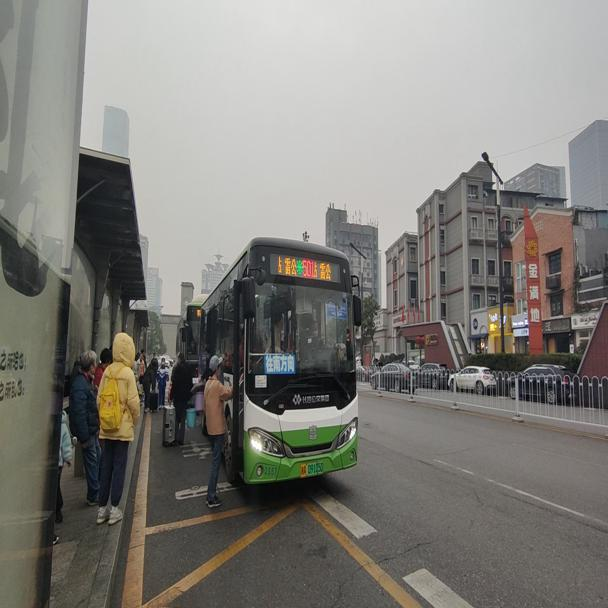bus: (200, 234, 362, 487), (175, 301, 201, 380)
screen: (301, 252, 314, 280)
